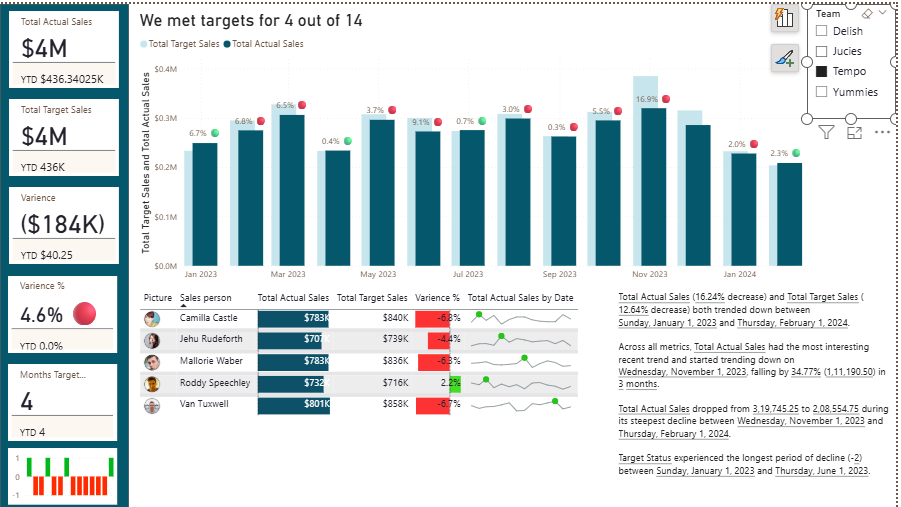

What the dashboard file says about the page in this screenshot:
{"tool":"powerbi","page":{"name":"Page 1","canvas":[1280,720],"ordinal":0},"visuals":[{"type":"shape","box":[0,0,184,720],"z":0},{"type":"cardVisual","fields":{"Data":["Actual.Total Actual Sales"]},"box":[12.9,10,157.1,110],"z":1000},{"type":"cardVisual","fields":{"Data":["Targets.Total Target Sales"]},"box":[12.9,135.7,157.1,110],"z":2000},{"type":"cardVisual","fields":{"Data":["Actual.Varience"]},"box":[12.9,261.4,157.1,110],"z":3000},{"type":"cardVisual","fields":{"Data":["Actual.Varience pct lable"]},"box":[11.4,388.6,155.7,110],"z":4000},{"type":"cardVisual","fields":{"Data":["Actual.Months Target Reached"]},"box":[11.4,514.3,155.7,110],"z":5000},{"type":"columnChart","fields":{"Category":["Calendar.Date"],"Y":["Actual.Target Status"]},"box":[11.4,634.3,155.7,81.4],"z":6000},{"type":"clusteredColumnChart","fields":{"Category":["Calendar.Date"],"Y":["Targets.Total Target Sales","Actual.Total Actual Sales"]},"box":[194.3,10,958.6,394.3],"z":7000},{"type":"slicer","fields":{"Values":["dimPeople.Team"]},"box":[1152.9,0,127.1,164.3],"z":8000},{"type":"tableEx","fields":{"Values":["dimPeople.Picture","dimPeople.Sales person","Actual.Total Actual Sales","Targets.Total Target Sales","Actual.Varience %","SparklineData(Actual.Total Actual Sales_[Calendar.Date])"]},"box":[194.3,404.3,668.6,311.4],"z":9000},{"type":"textbox","box":[878.6,404.3,401.4,311.4],"z":10000}]}

Visuals, with their boxes in screenshot pixels (x1, y1, x2, y2):
shape: detection(0, 0, 123, 475)
cardVisual - Actual.Total Actual Sales: detection(9, 0, 114, 73)
cardVisual - Targets.Total Target Sales: detection(9, 84, 114, 157)
cardVisual - Actual.Varience: detection(9, 168, 114, 242)
cardVisual - Actual.Varience pct lable: detection(8, 253, 112, 327)
cardVisual - Actual.Months Target Reached: detection(8, 337, 112, 411)
columnChart - Calendar.Date x Actual.Target Status: detection(8, 418, 112, 472)
clusteredColumnChart - Calendar.Date x Targets.Total Target Sales: detection(130, 0, 772, 264)
slicer - dimPeople.Team: detection(772, 0, 857, 103)
tableEx - dimPeople.Picture x dimPeople.Sales person: detection(130, 264, 578, 472)
textbox: detection(588, 264, 857, 472)
